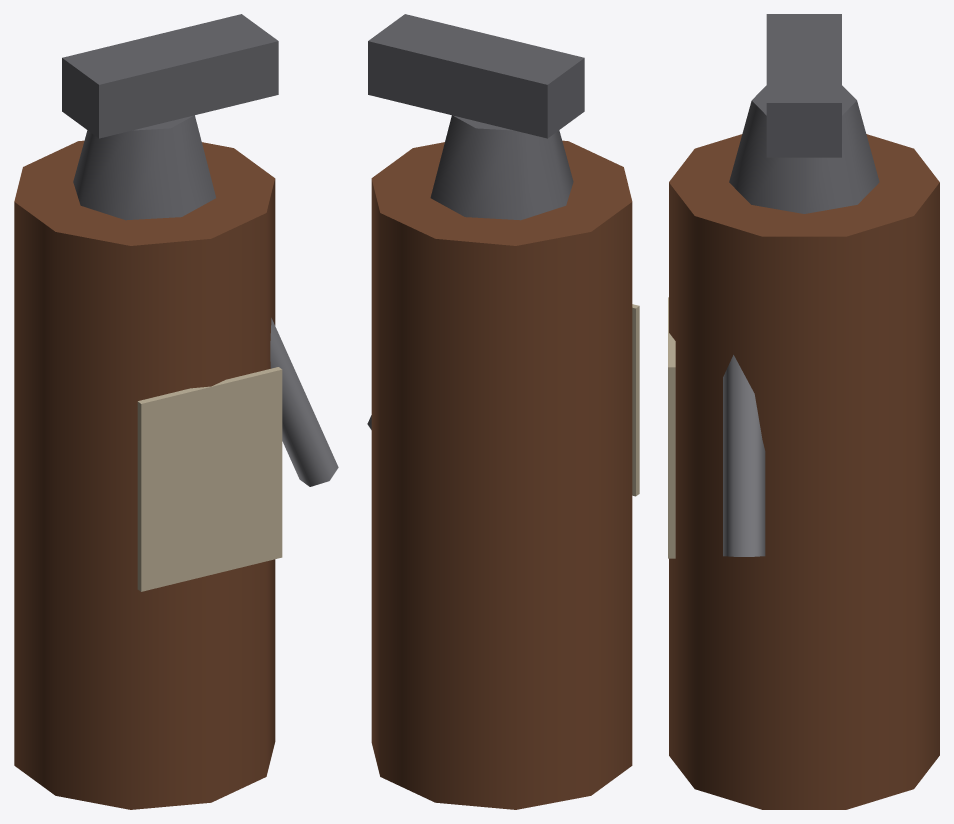
File: PRP_P2_Fire_Extinguisher_A.obj
3 views of the same model, side by side, from view 1: azimuth 30°, elevation 25°; view 2: azimuth 150°, elevation 25°; view 3: azimuth 270°, elevation 25° (orthographic).
Visible parts, largest first — view 1: cylinder, label, handle, neck, hose; view 2: cylinder, handle, neck, label; view 3: cylinder, handle, neck, hose, label.
Boxes of the visible parts, x1,y1,x2,y2 form: cylinder: (14,140,275,809); label: (137,367,282,591); handle: (62,14,278,138); neck: (73,115,215,220); hose: (270,318,338,486); cylinder: (371,140,632,809); handle: (368,14,584,138); neck: (430,115,573,220); label: (632,304,639,496); cylinder: (669,134,939,809); handle: (766,14,841,157); neck: (729,85,879,213); hose: (723,355,765,556); label: (668,297,675,558).
Bounding box in the file's own units: 0.2096 × 0.52 × 0.1805.
